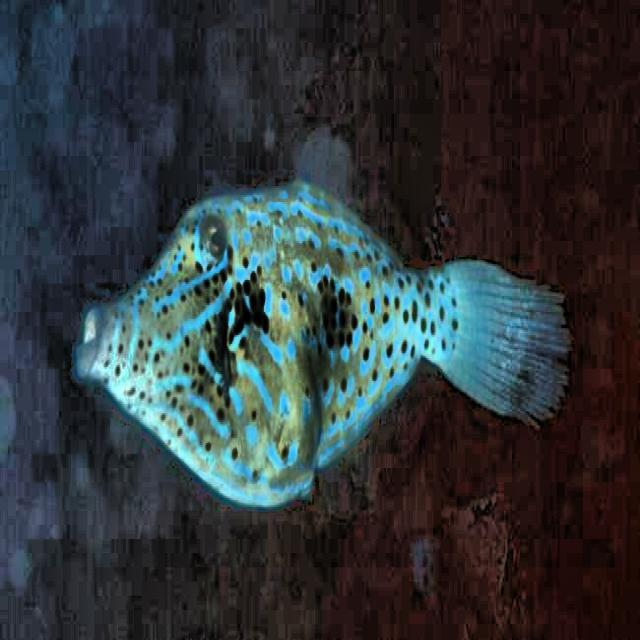fish: (71, 133, 575, 510)
